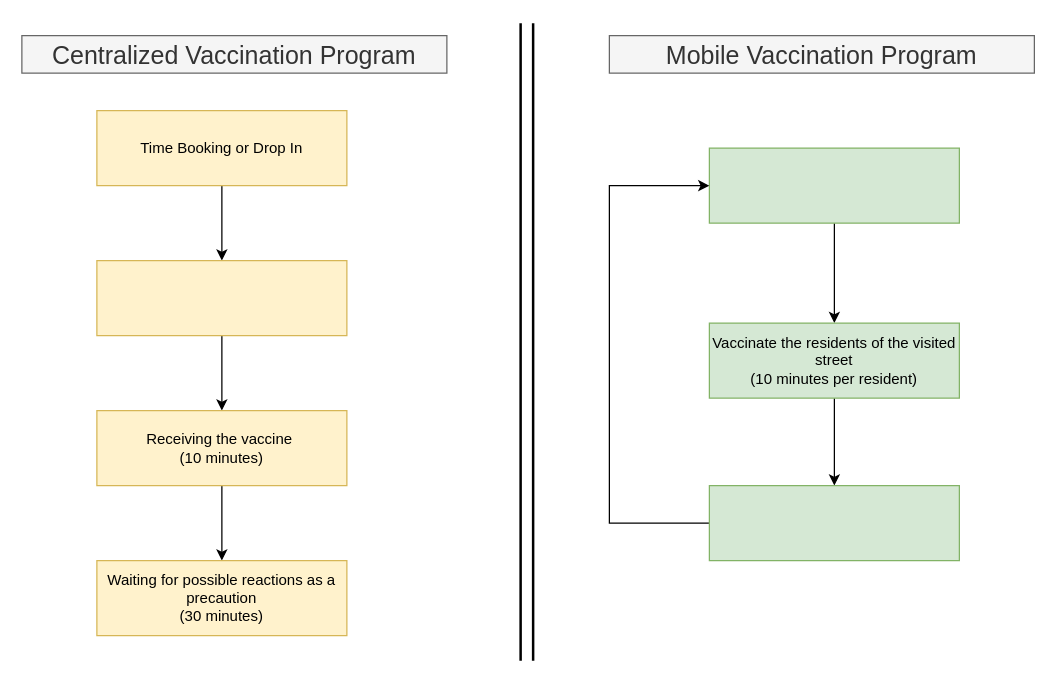
Image size: 1056x683. Some labels were removed from this diagram. Here are the shapes that lost their labels. From the top down, the centre of each, then its label:
At (x=833, y=185): "Dispatch to a new street in the city (15 minutes)".
At (x=221, y=297): "Registration Upon Arrival (5 minutes)".
At (x=833, y=522): "Make the vaccination bus ready to visit a new street in the city. (1 minute)".
